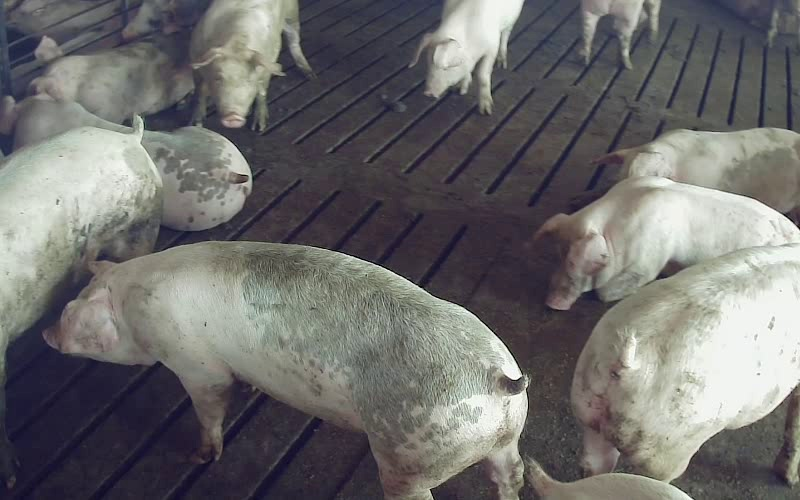pig: (45, 242, 527, 499), (0, 117, 162, 485), (571, 244, 799, 483), (535, 176, 799, 309), (190, 0, 314, 130), (31, 35, 193, 123), (410, 0, 523, 113)
